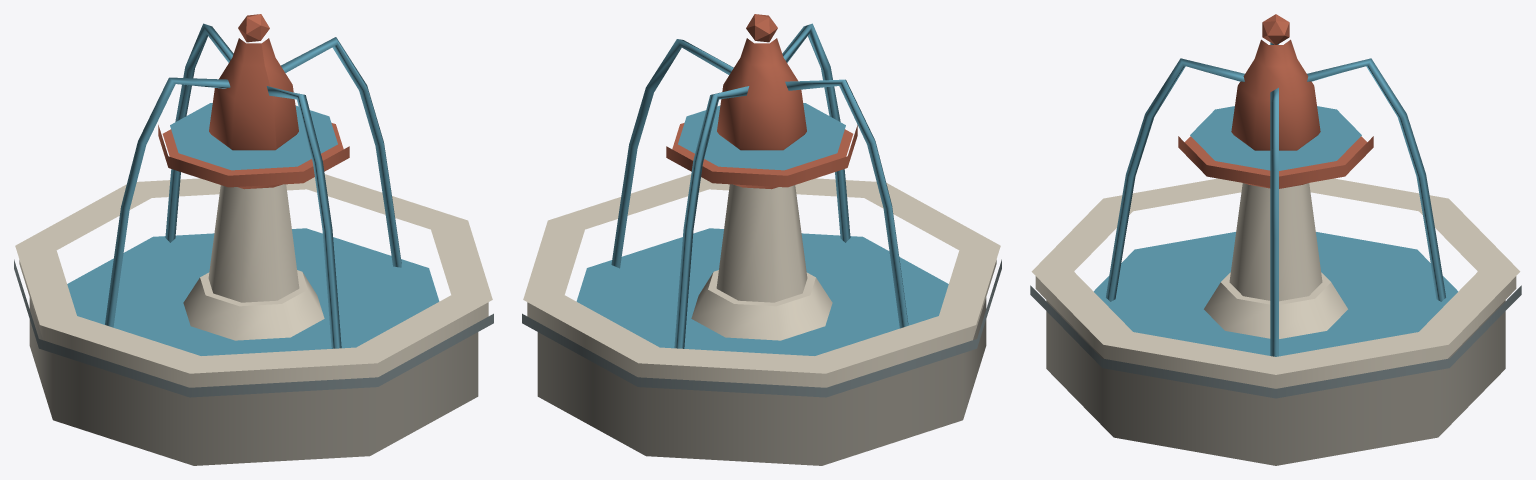
Rendered from plaza-fountain.glb.
3 views of the same model, side by side, from view 1: azimuth 30°, elevation 25°; view 2: azimuth 150°, elevation 25°; view 3: azimuth 270°, elevation 25° (orthographic).
Parts seen in each view (by area): view 1: Merged_prop-body-light, Merged_city-curb, Merged_fountain-water-surface, Merged_fountain-water, Merged_prop-accent, Merged_prop-body; view 2: Merged_prop-body-light, Merged_city-curb, Merged_fountain-water-surface, Merged_fountain-water, Merged_prop-accent, Merged_prop-body; view 3: Merged_prop-body-light, Merged_city-curb, Merged_fountain-water-surface, Merged_fountain-water, Merged_prop-accent, Merged_prop-body.
Part boxes in pixels (x1,y1,x2,y2): Merged_prop-body-light: (15,174,492,387); Merged_city-curb: (29,298,478,465); Merged_fountain-water-surface: (67,228,439,355); Merged_fountain-water: (105,23,401,348); Merged_prop-accent: (158,14,349,189); Merged_prop-body: (14,259,493,397); Merged_prop-body-light: (523,174,1000,387); Merged_city-curb: (537,298,986,465); Merged_fountain-water-surface: (576,228,948,355); Merged_fountain-water: (611,23,908,348); Merged_prop-accent: (666,14,857,189); Merged_prop-body: (522,259,1001,397); Merged_prop-body-light: (1031,178,1520,388); Merged_city-curb: (1046,300,1505,465); Merged_fountain-water-surface: (1093,232,1458,356); Merged_fountain-water: (1106,42,1445,356); Merged_prop-accent: (1178,14,1373,188); Merged_prop-body: (1030,285,1521,398).
Size of what is drawn, in the model's own units: 2.31 by 1.82 by 2.31.
